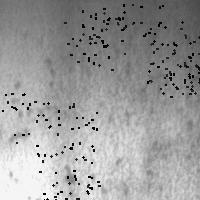pitted_surface: (11, 16, 150, 199), (138, 20, 199, 199), (36, 102, 96, 162), (64, 10, 124, 69), (147, 21, 198, 81), (149, 41, 200, 96), (103, 0, 162, 44), (162, 39, 200, 93), (39, 170, 98, 200), (0, 93, 34, 144)
